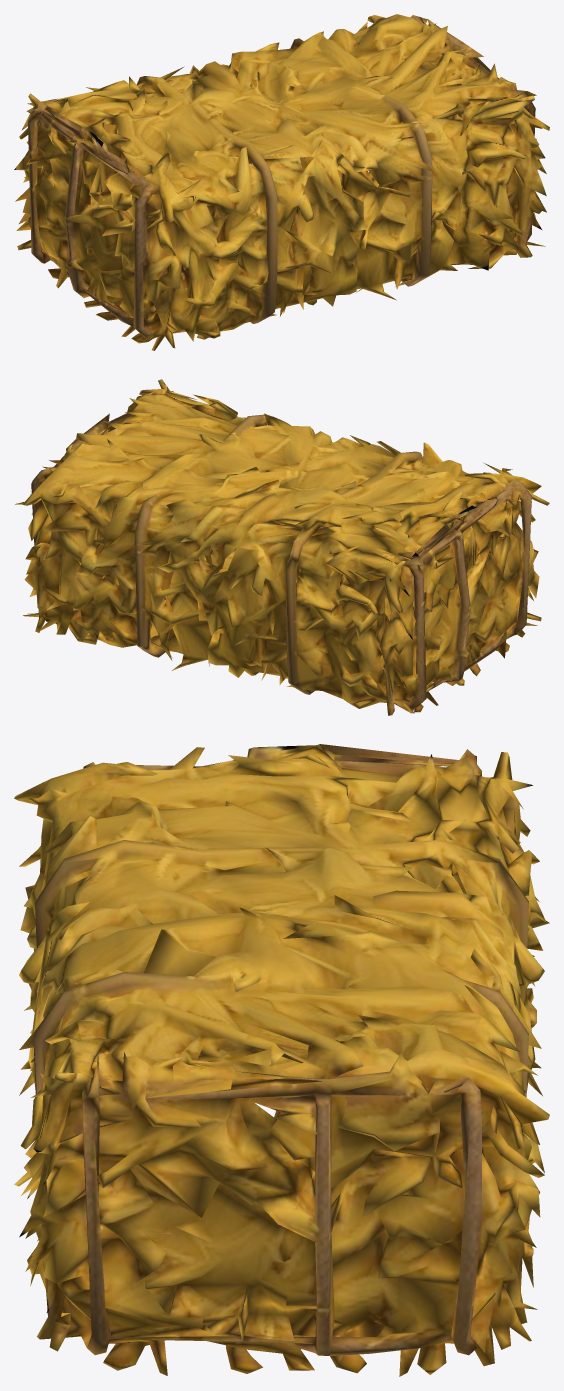
The model's file is haybale.glb.
3 views of the same model, one above another, from view 1: azimuth 30°, elevation 25°; view 2: azimuth 150°, elevation 25°; view 3: azimuth 270°, elevation 25° (orthographic). The views are drawn at different scales.
Parts seen in each view (by area): view 1: tripo_node_df804842-e850-4fe7-ba7b-b933ad5c12b4; view 2: tripo_node_df804842-e850-4fe7-ba7b-b933ad5c12b4; view 3: tripo_node_df804842-e850-4fe7-ba7b-b933ad5c12b4.
Boxes of the visible parts, box(x1,y1,x2,y2) form: tripo_node_df804842-e850-4fe7-ba7b-b933ad5c12b4: box(14, 14, 549, 350); tripo_node_df804842-e850-4fe7-ba7b-b933ad5c12b4: box(15, 379, 549, 715); tripo_node_df804842-e850-4fe7-ba7b-b933ad5c12b4: box(14, 744, 549, 1376).
Bounding box in the file's own units: 0.9803 × 0.4201 × 0.6349.
Materials: 1 (1 with a texture image).
